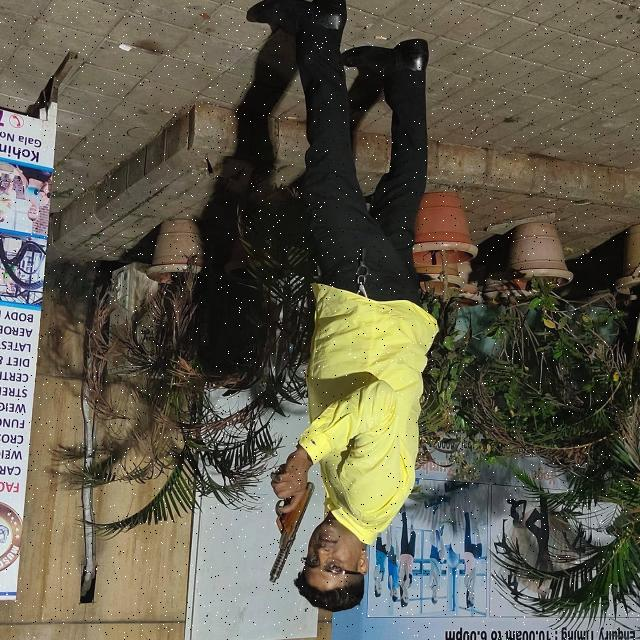gun: (255, 459, 327, 595)
